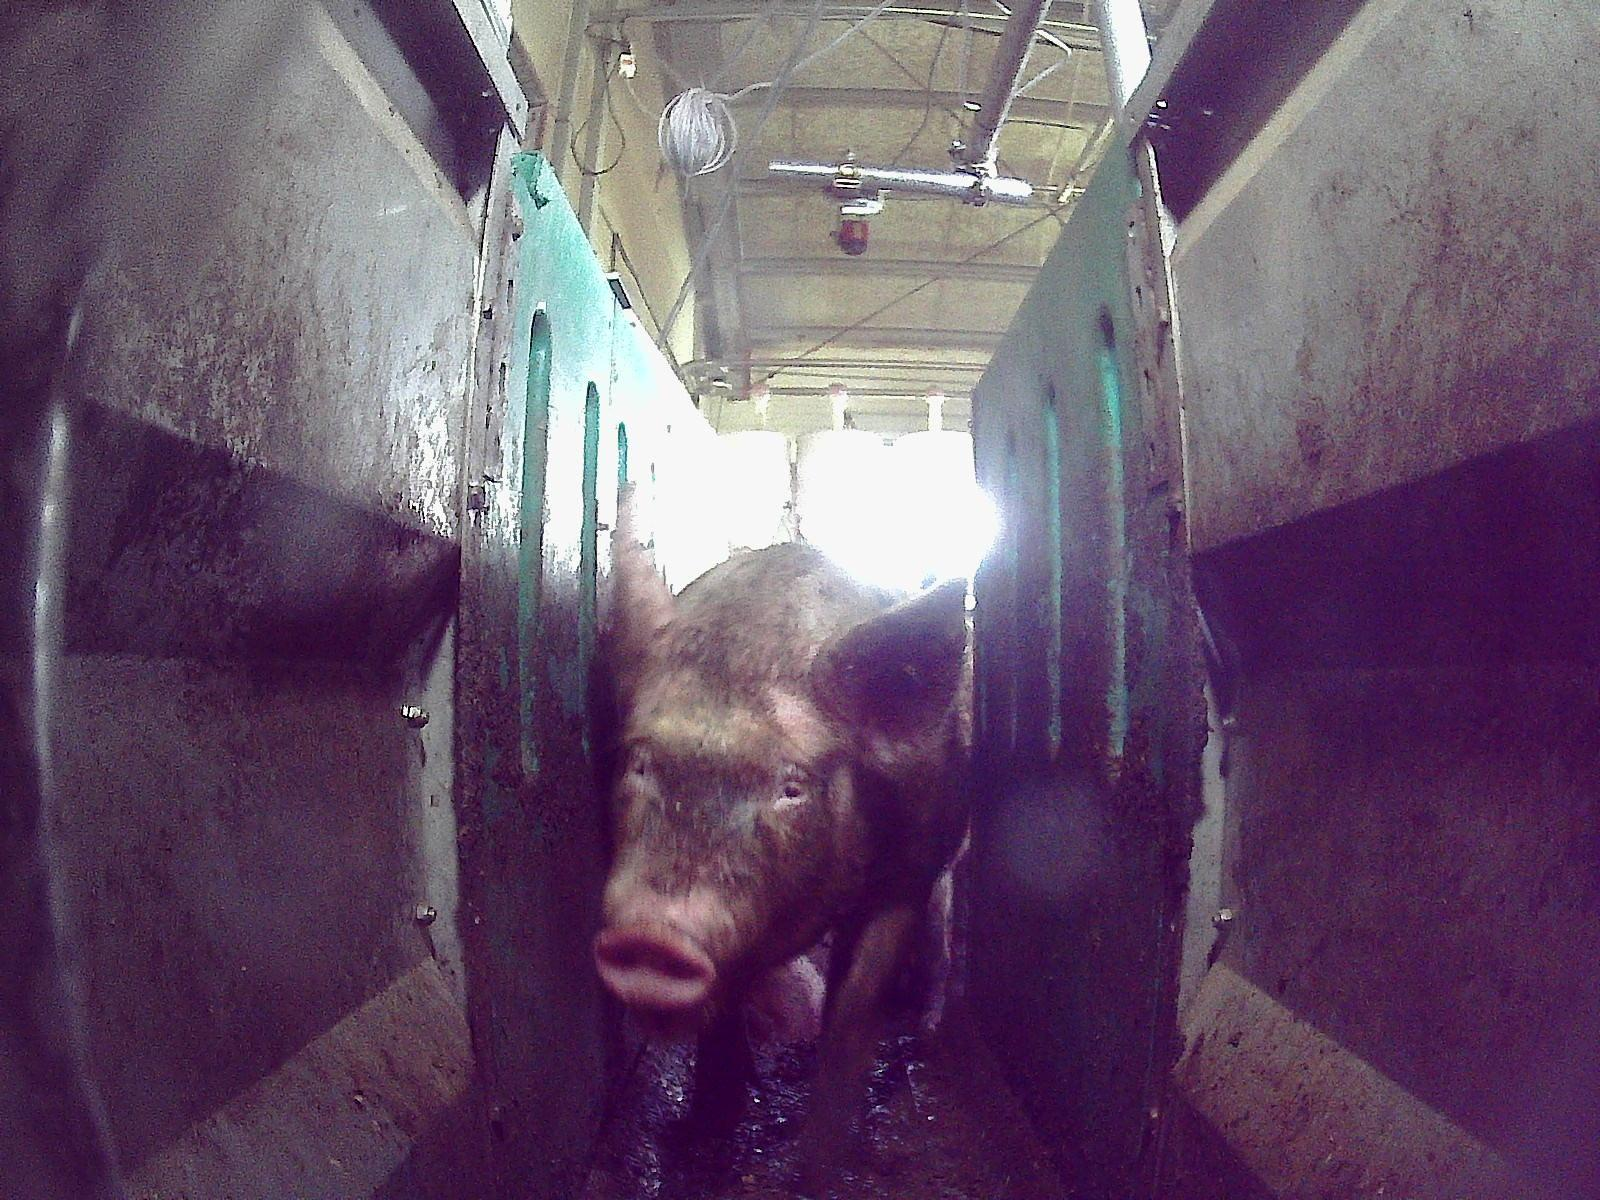Face: (586, 629, 859, 1009)
